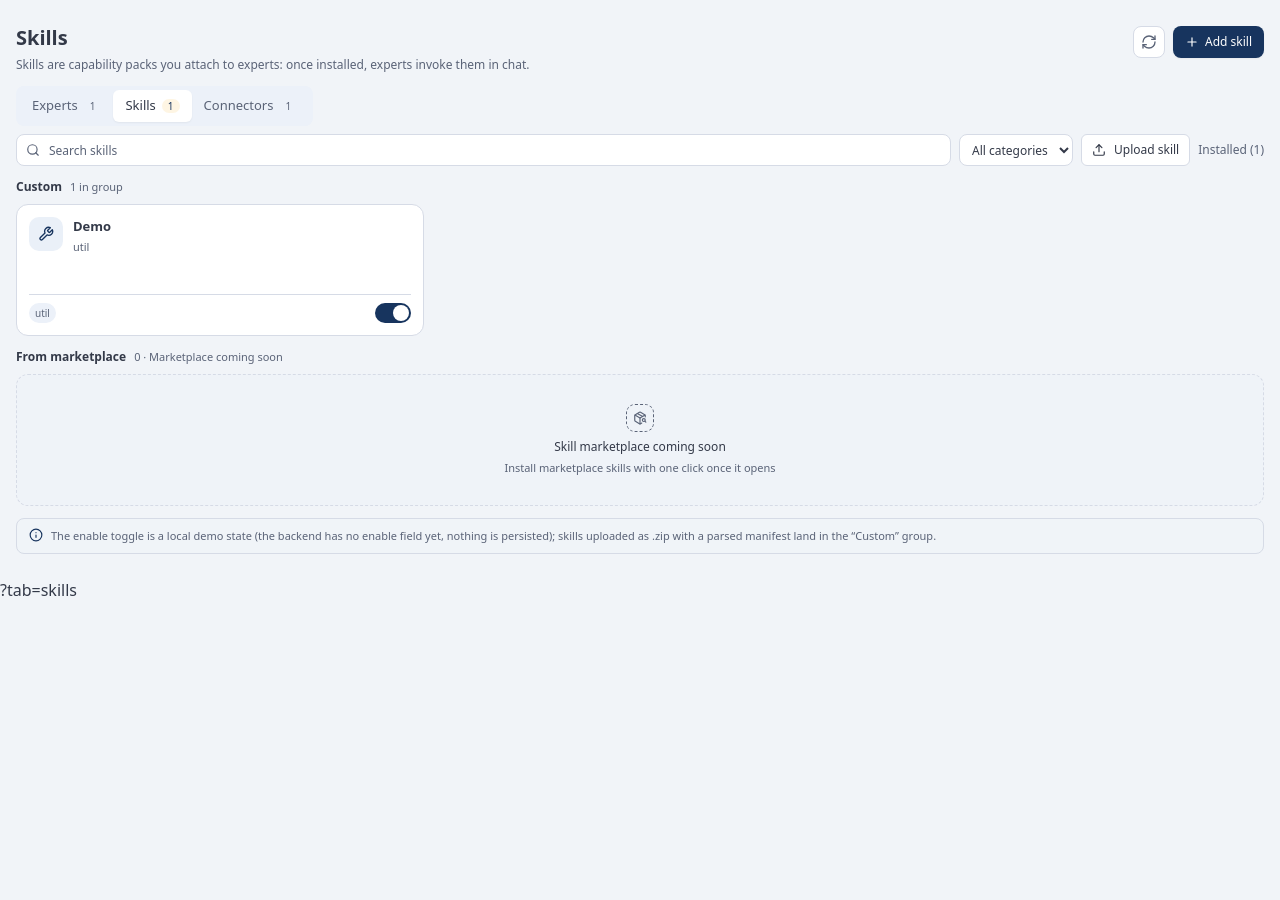
it: Agents · V0.4.5 B4 · F-22.3~22.5（三 Tab） › 技能 Tab 骨架：搜索 / 已安装计数 / 添加与上传按钮（F-27.3）/ 分组 / 启用开关（本地态）
Check: the search field with test id "agents-search-skills" is shown, box [16,134,951,166]
Check: the element with test id "agents-skills-group-custom" is shown, box [16,178,424,336]
Click the switch with test id "agents-skill-toggle-s1" at (393, 313), box [375,303,411,323]
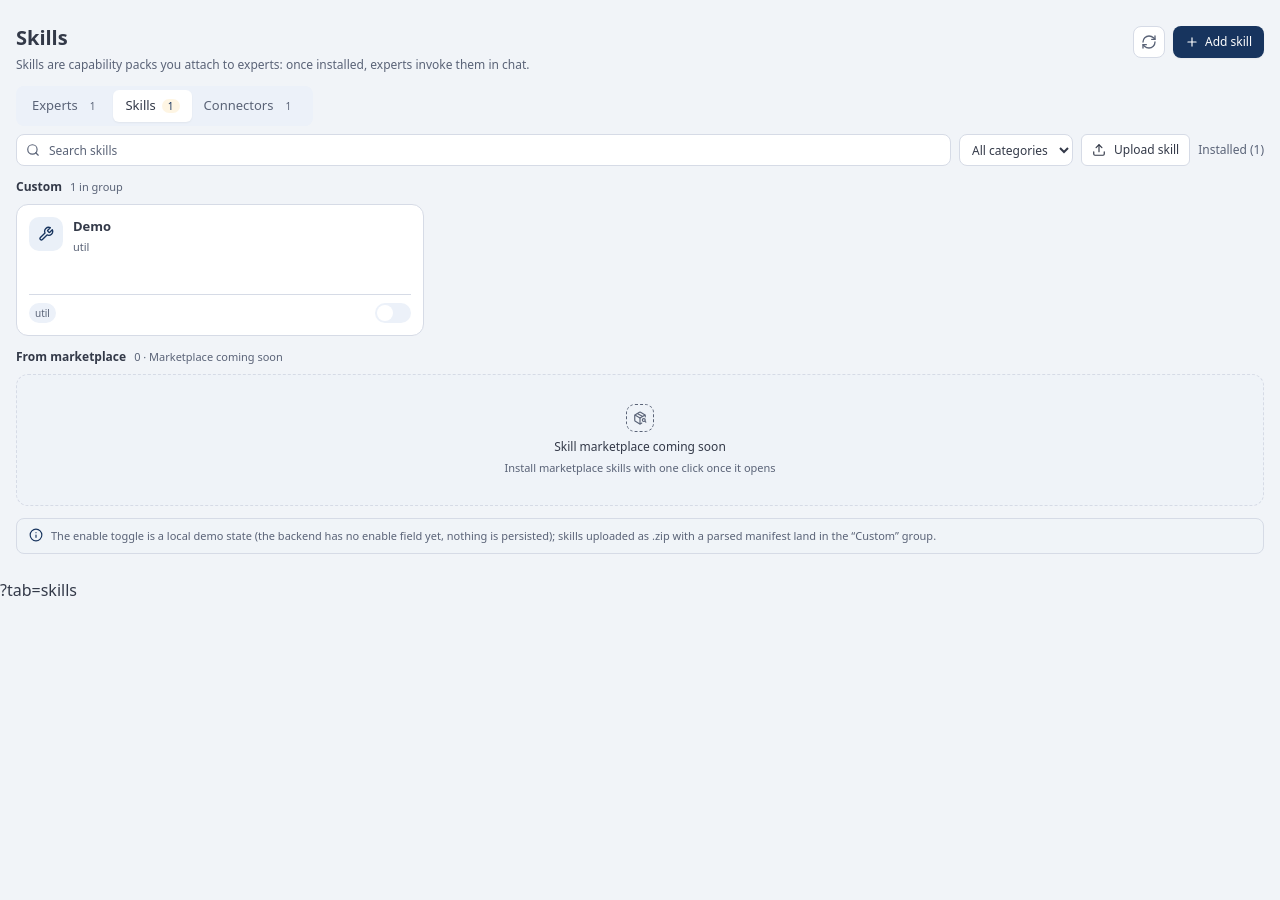
Check: the button with test id "agents-skills-upload" is shown, box [1081,134,1190,166]
「添加技能」开弹窗：说明 + 技能市场占位空态；关闭后消失。
Click the button with test id "agents-skills-add" at (1218, 42), box [1173,26,1264,58]
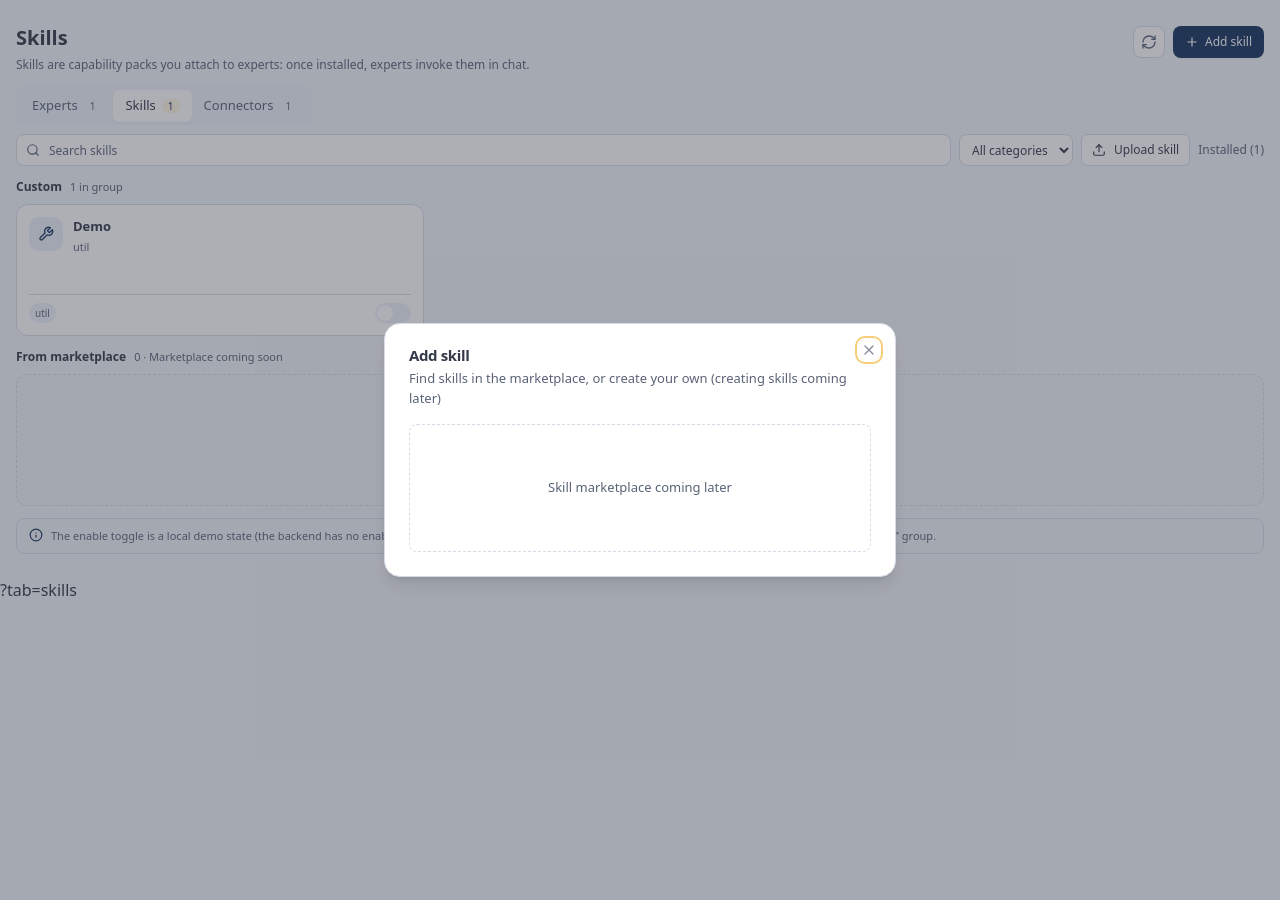
Check: the dialog with test id "agents-skills-add-dialog" is shown, box [384,323,896,577]
Check: the text with test id "agents-skills-add-dialog-empty" reads "Skill marketplace coming later", box [548,478,732,496]
Click the button with test id "dialog-close" at (869, 350), box [859,340,879,360]
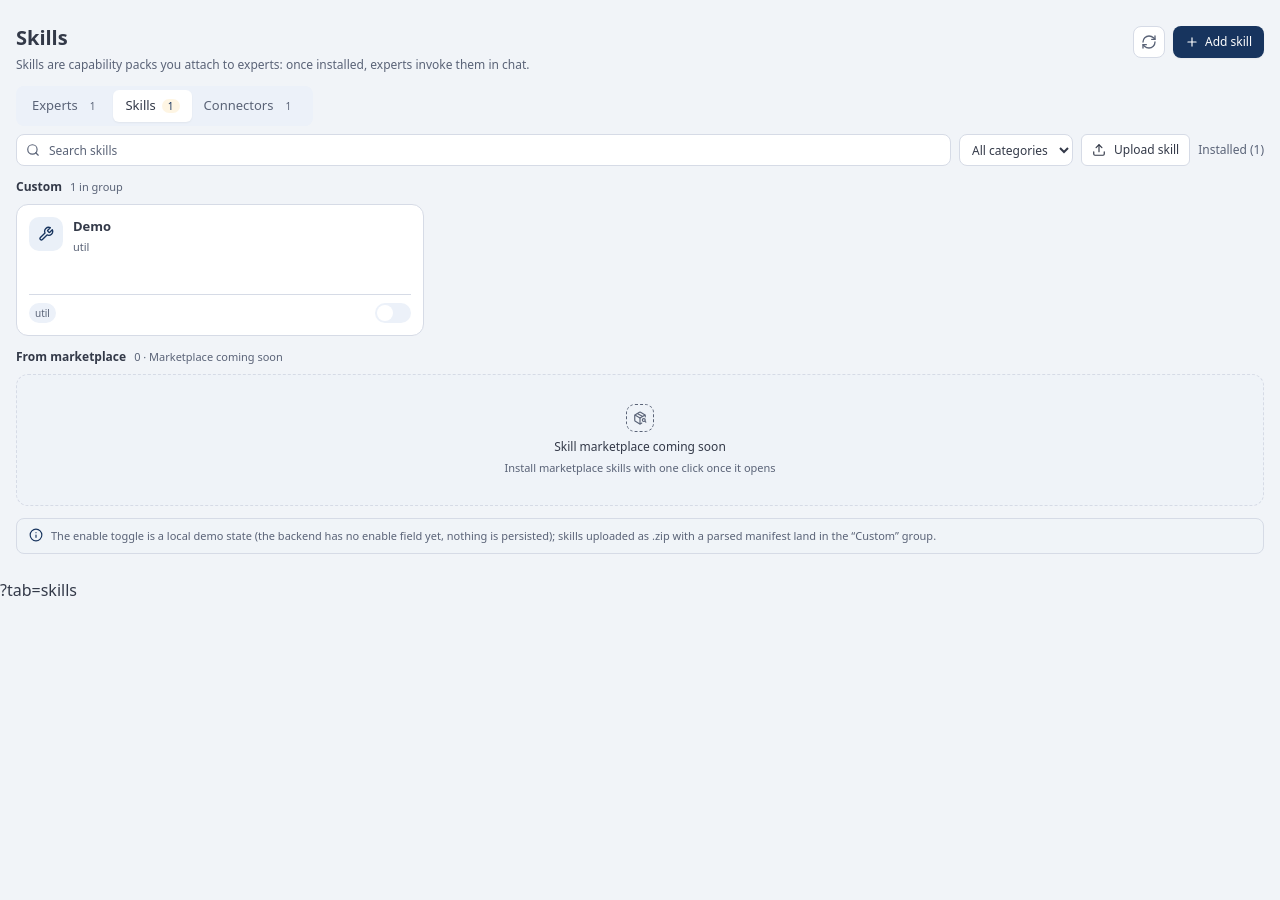
Check: the dialog with test id "agents-skills-add-dialog" is gone
「上传技能」开弹窗：文件选择 + 提交占位禁用。
Click the button with test id "agents-skills-upload" at (1136, 150), box [1081,134,1190,166]
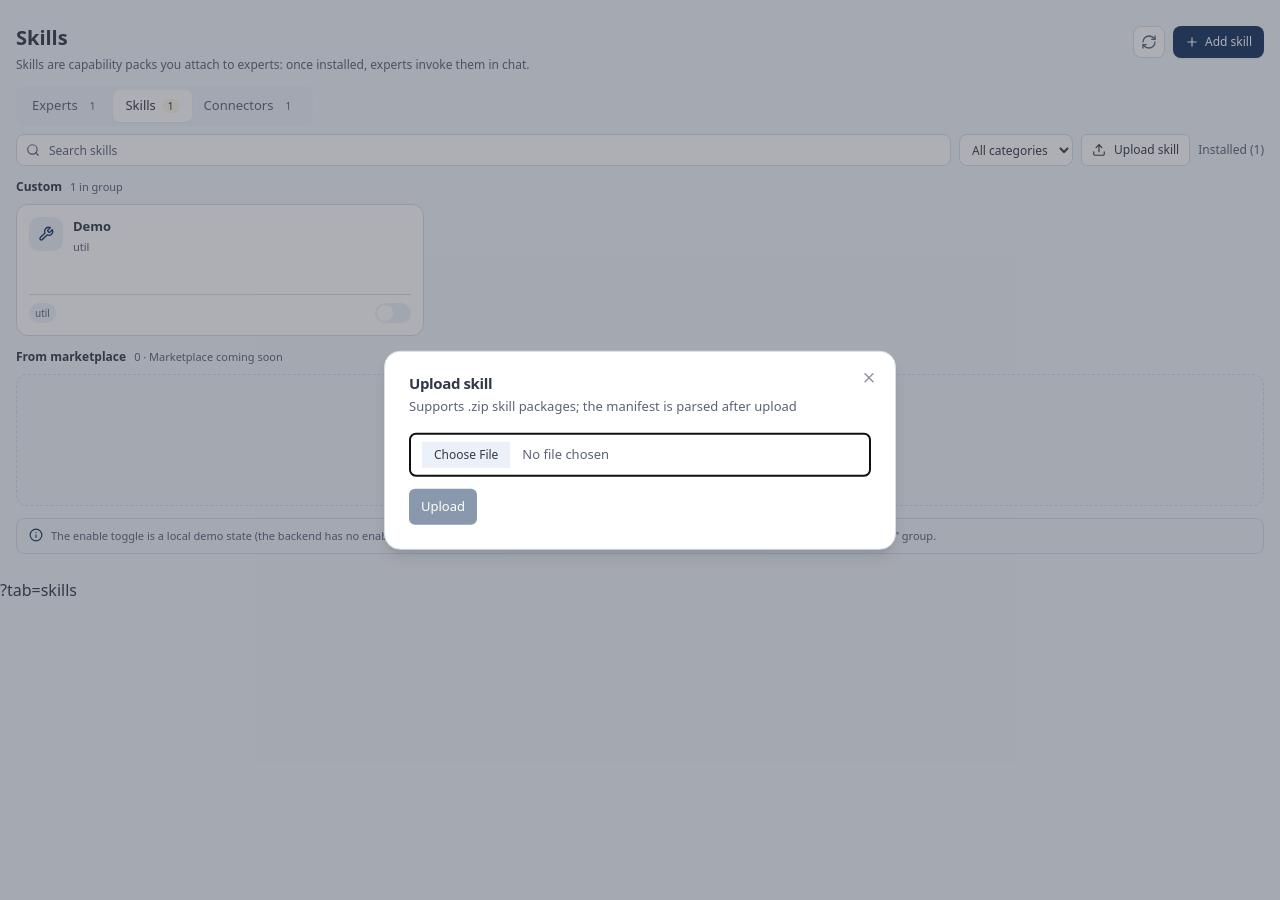
Check: the dialog with test id "agents-skills-upload-dialog" is shown, box [384,351,896,549]
Check: the file field with test id "agents-skills-upload-input" is shown, box [409,432,871,476]
Check: the button with test id "agents-skills-upload-submit" is disabled, box [409,488,477,524]
